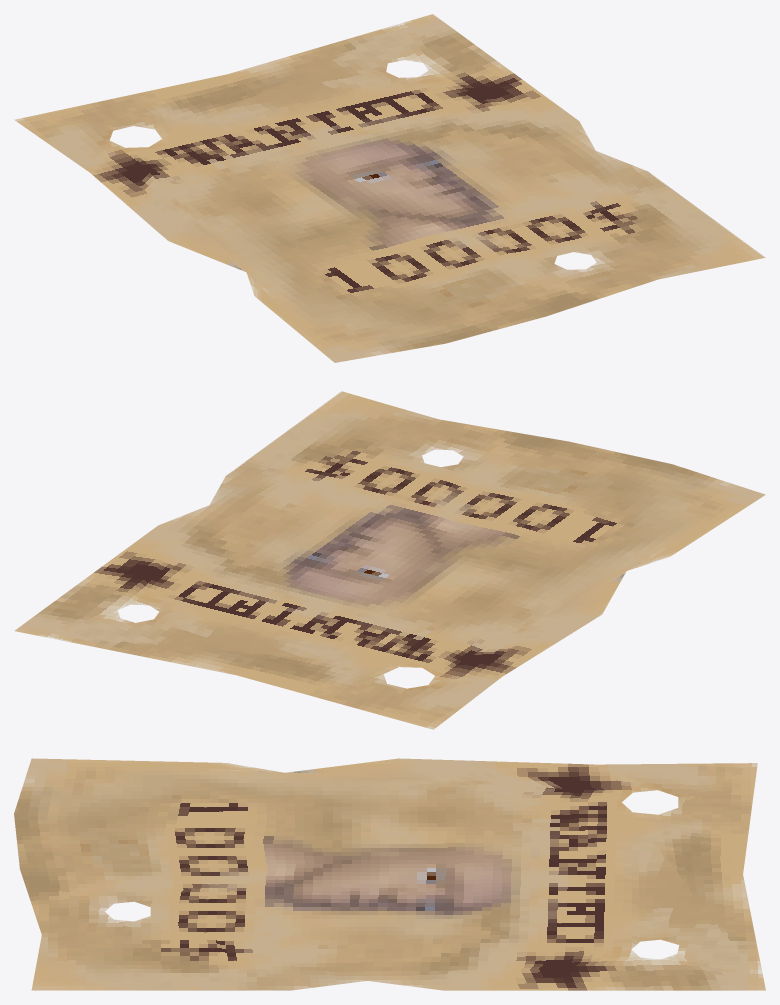
Rendered from WantedPoster.glb.
3 views of the same model, one above another, from view 1: azimuth 30°, elevation 25°; view 2: azimuth 150°, elevation 25°; view 3: azimuth 270°, elevation 25° (orthographic). The views are drawn at different scales.
Parts seen in each view (by area): view 1: WantedPoster2; view 2: WantedPoster2; view 3: WantedPoster2.
Part boxes in pixels (bbox=[...]): WantedPoster2: bbox=[14, 14, 765, 362]; WantedPoster2: bbox=[14, 391, 765, 729]; WantedPoster2: bbox=[14, 758, 765, 990].
Size of the model in its own units: 0.6879 by 1.59e-07 by 0.942.
Materials: 1 (1 with a texture image).
